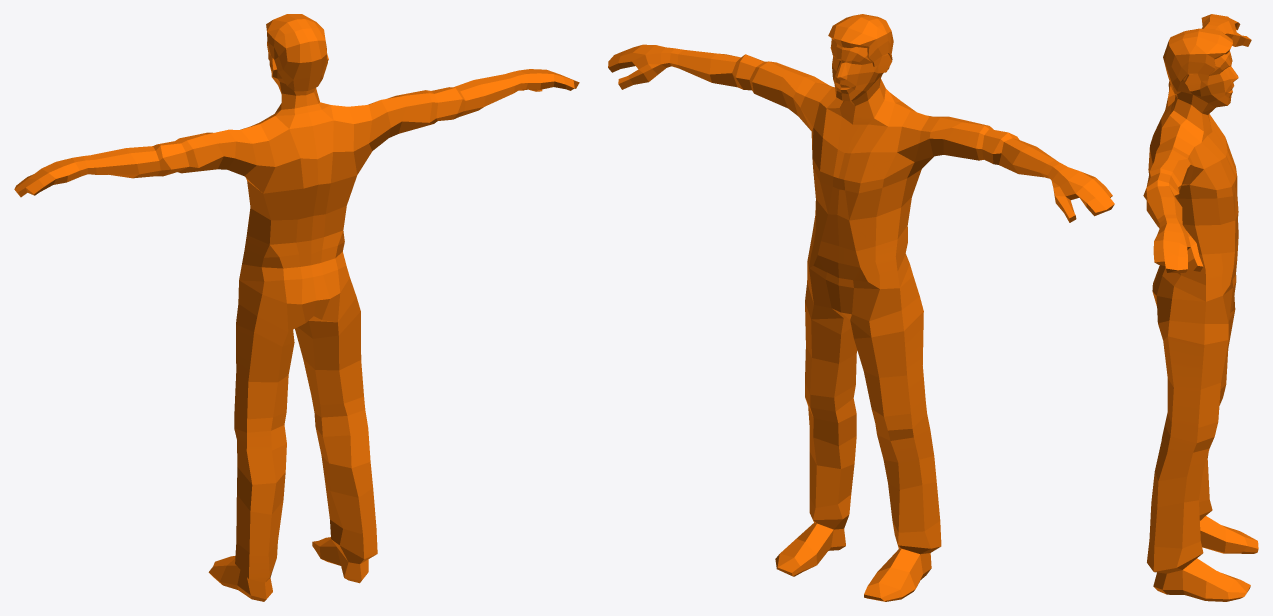
The model's file is Player Red.glb.
3 renders of one model, left to right at view 1: azimuth 30°, elevation 25°; view 2: azimuth 150°, elevation 25°; view 3: azimuth 270°, elevation 25°, orthographic. The views are drawn at different scales.
Visible parts, largest first — view 1: lpMaleG; view 2: lpMaleG; view 3: lpMaleG.
Boxes of the visible parts, x1,y1,x2,y2 form: lpMaleG: (14,14,579,601); lpMaleG: (608,14,1114,601); lpMaleG: (1143,14,1258,601).
Bounding box in the file's own units: 1820 × 1820 × 352.
